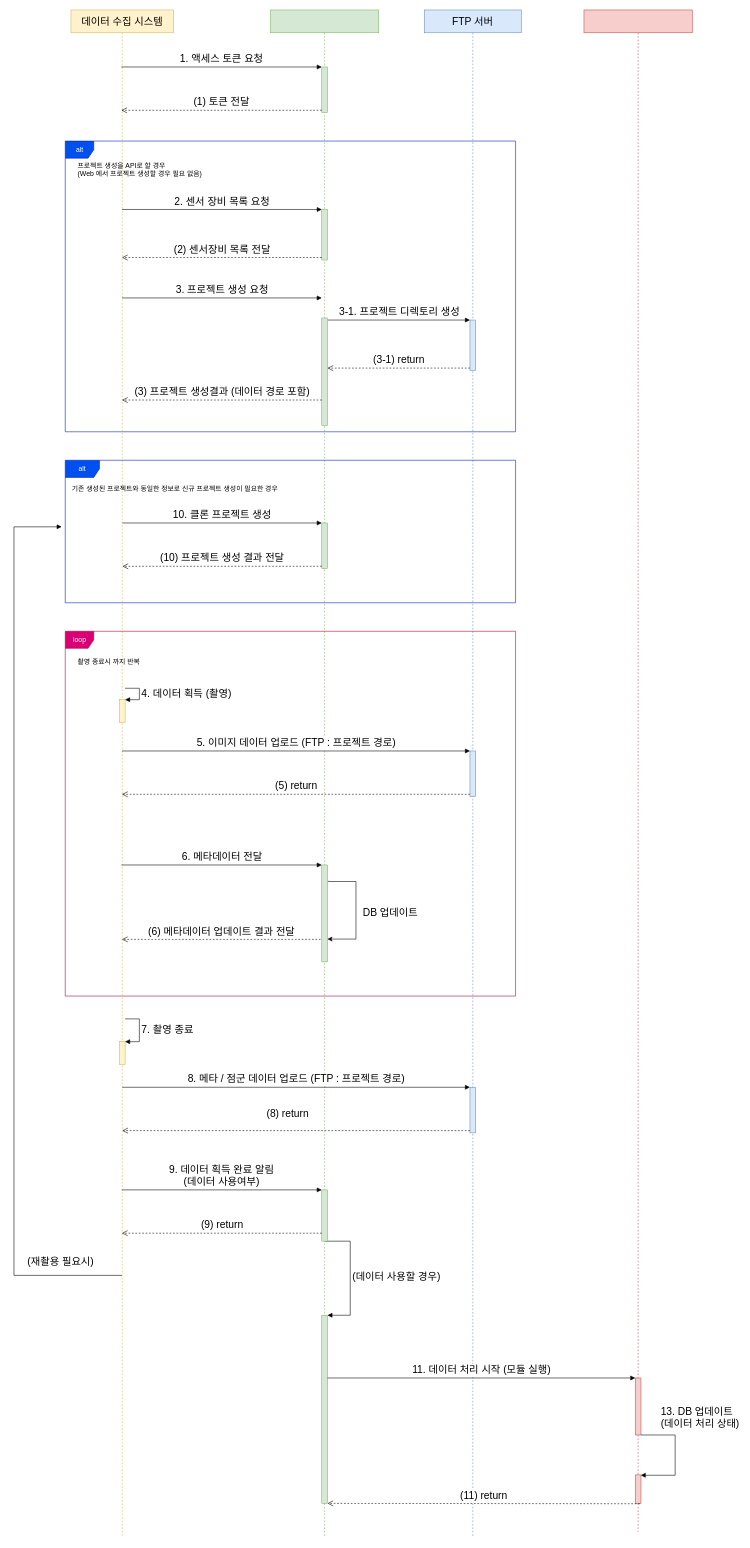
Some shapes in this 750 by 1548 pixel diagram are drawn without their labels. The box of each missing label's shape, as (x1, y1, x2, y2) in pixels:
데이터 관리 시스템: (270, 9, 379, 1538)
데이터 처리 시스템: (583, 9, 692, 1532)
